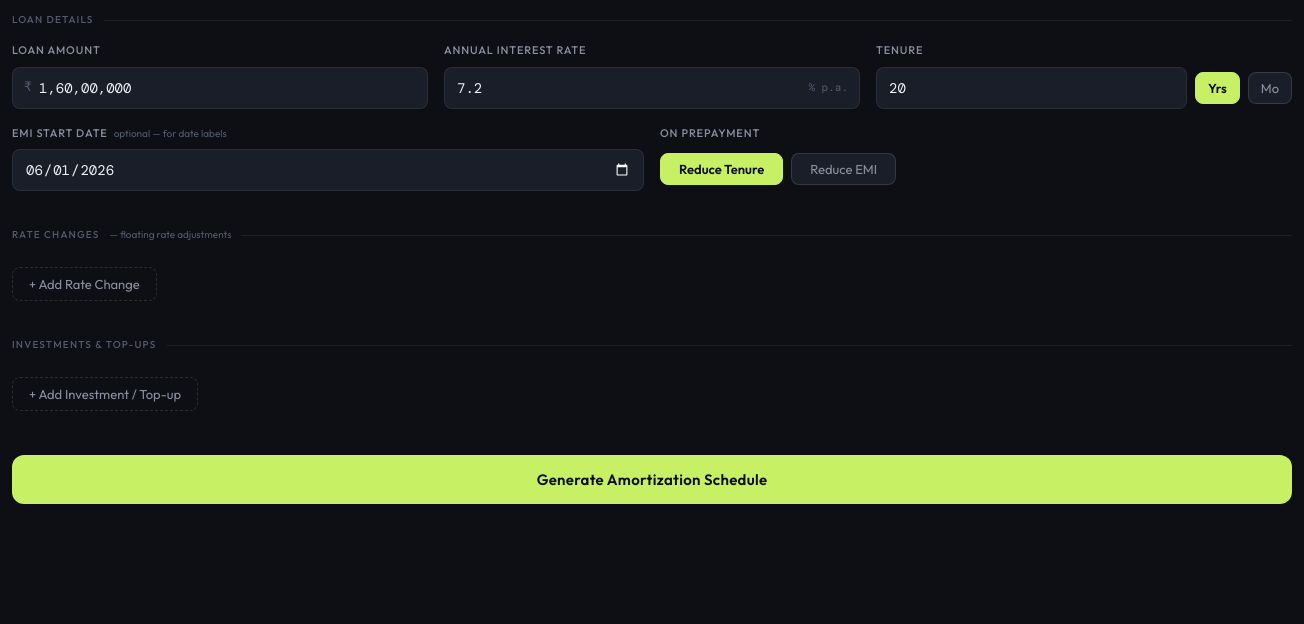
AmortizationPage — rate change rows › adds a rate change row when + Add Rate Change is clicked
Click the button "+ Add Rate Change". click: [84, 284]
box: [12,267,157,301]
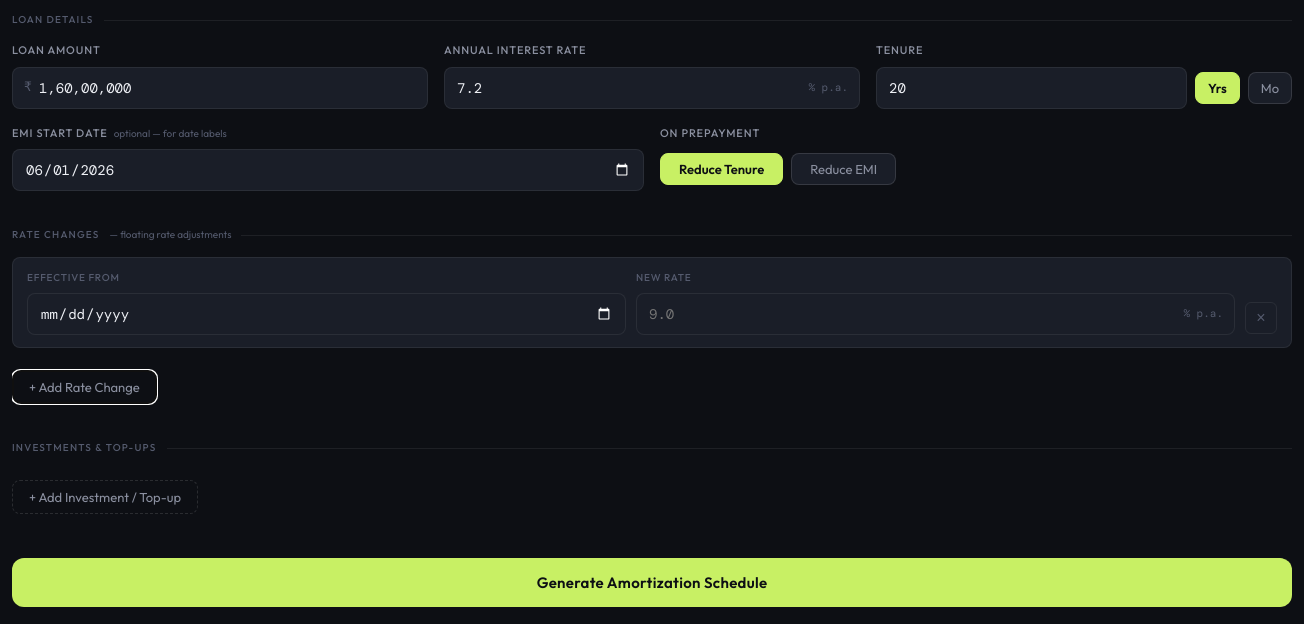
Now the number of buttons titled "Remove" is 1, box [1245,302,1277,334]
